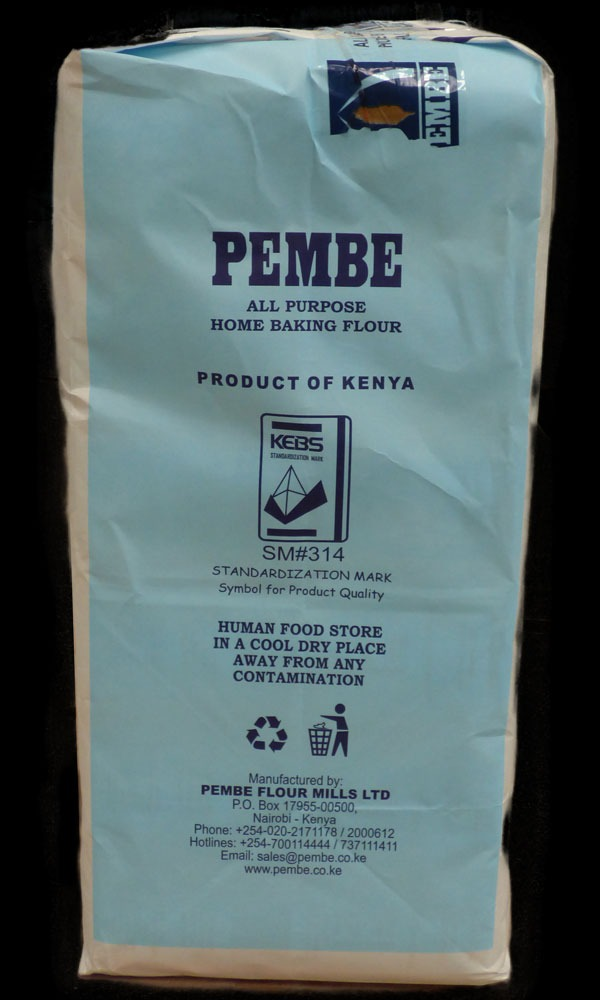wheat_flour_blue_label: (98, 26, 518, 979)
